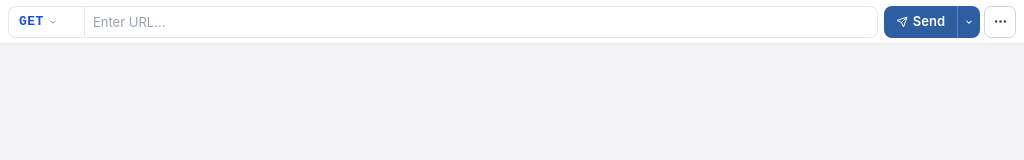
Scenario: compact layout (issue #251) › opens the menu, lists Save, and closes on Escape
This screenshot has width=1024, height=160.
Click the button with test id "url-more-btn".
click(1000, 22)  # box [984,6,1016,38]
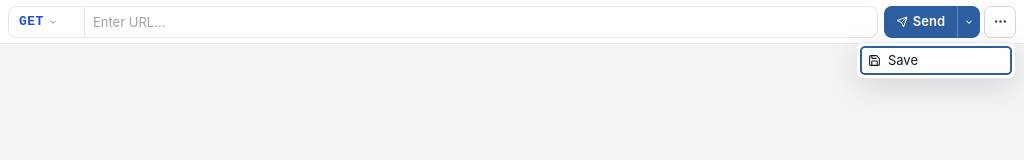
Expected: the menu item with test id "url-more-save" reads "Save", [860,46,1012,75]
Press Escape in the menu with test id "url-more-menu", box [856,42,1016,79]
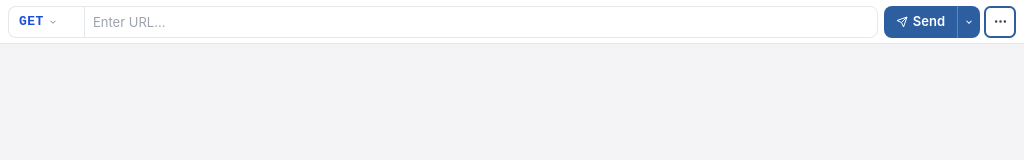
Expected: the menu with test id "url-more-menu" is gone
